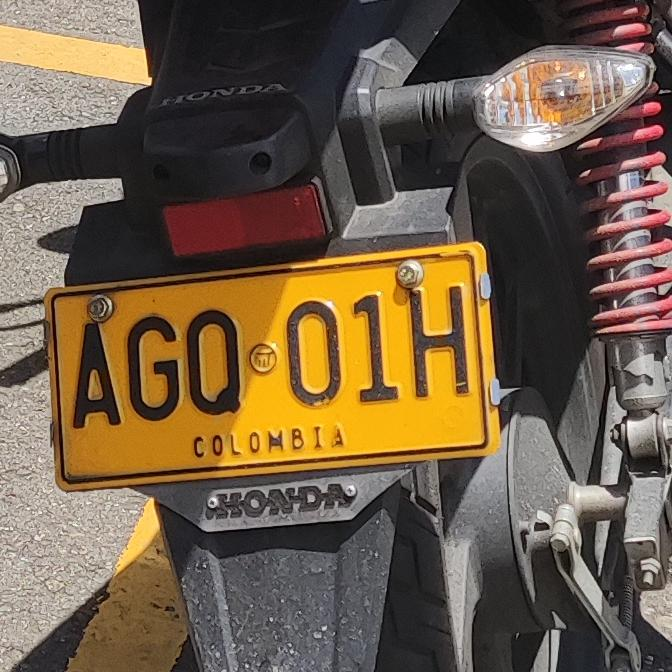plates: (41, 232, 512, 505)
